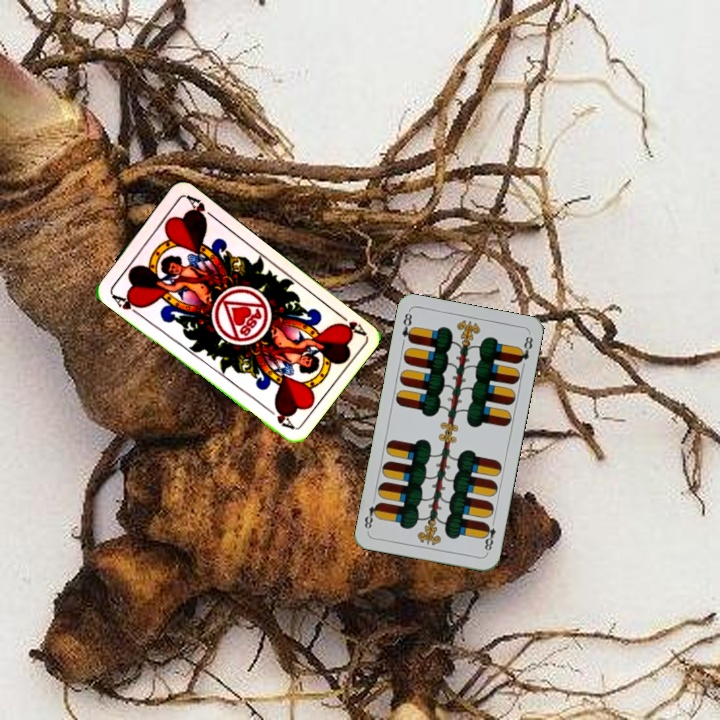E8: (479, 516, 498, 556), (398, 308, 417, 346)
HA: (107, 289, 146, 318), (332, 308, 367, 338)
